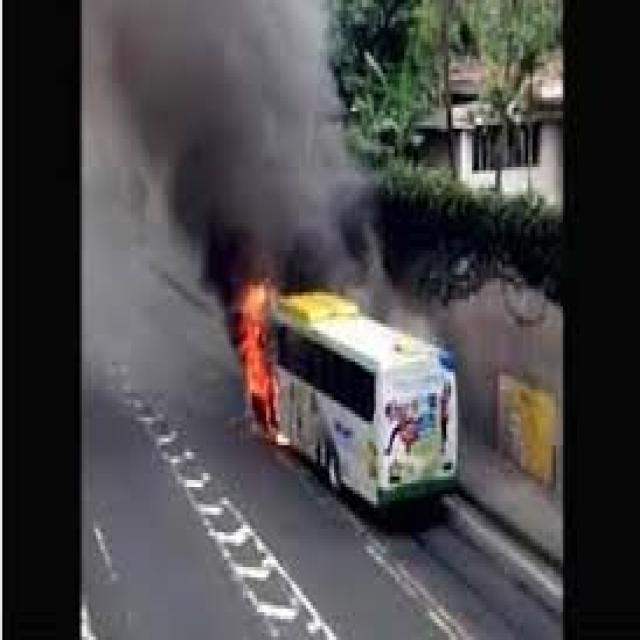Fire: (237, 283, 276, 427)
Smoke: (98, 0, 383, 285)
